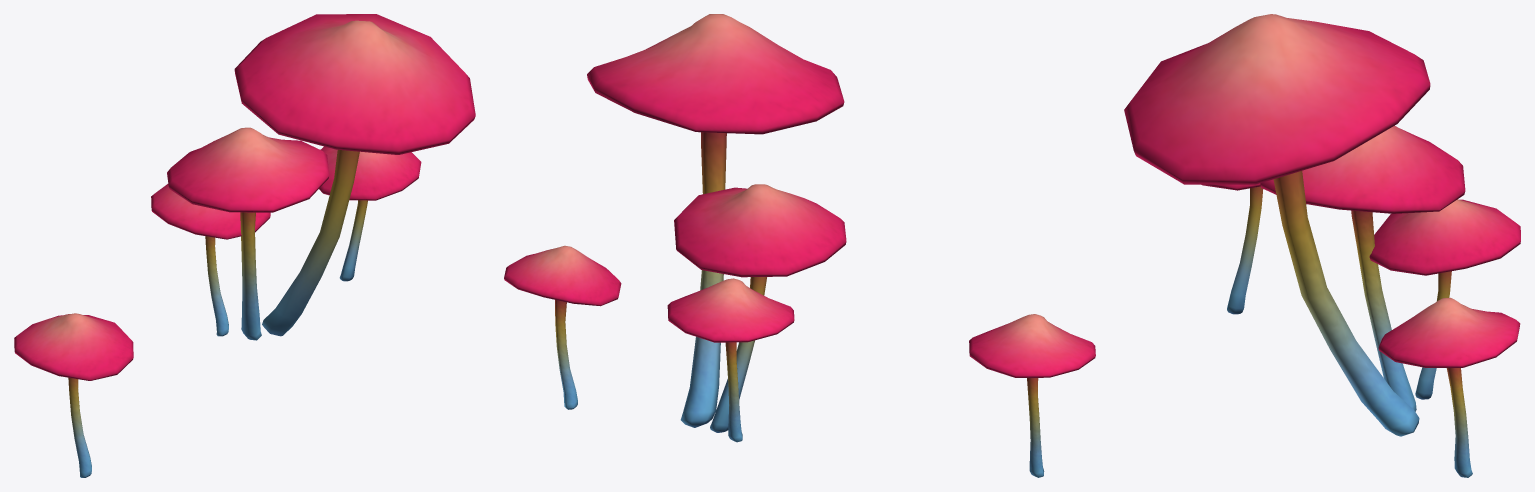
File: Cartoon Seaweed_13-2-30.fbx
The picture shows the model from 3 angles, left to right: view 1: azimuth 30°, elevation 25°; view 2: azimuth 150°, elevation 25°; view 3: azimuth 270°, elevation 25°; orthographic projection. The views are drawn at different scales.
Visible parts, largest first — view 1: Cartoon Seaweed_13.2.30; view 2: Cartoon Seaweed_13.2.30; view 3: Cartoon Seaweed_13.2.30.
Part boxes in pixels (left/top/right/bottom): Cartoon Seaweed_13.2.30: left=14, top=14, right=475, bottom=477; Cartoon Seaweed_13.2.30: left=504, top=14, right=1095, bottom=477; Cartoon Seaweed_13.2.30: left=1124, top=14, right=1520, bottom=477.
Size of the model in its own units: 19.7 by 15.03 by 11.34.
1 material, 1 textured.
